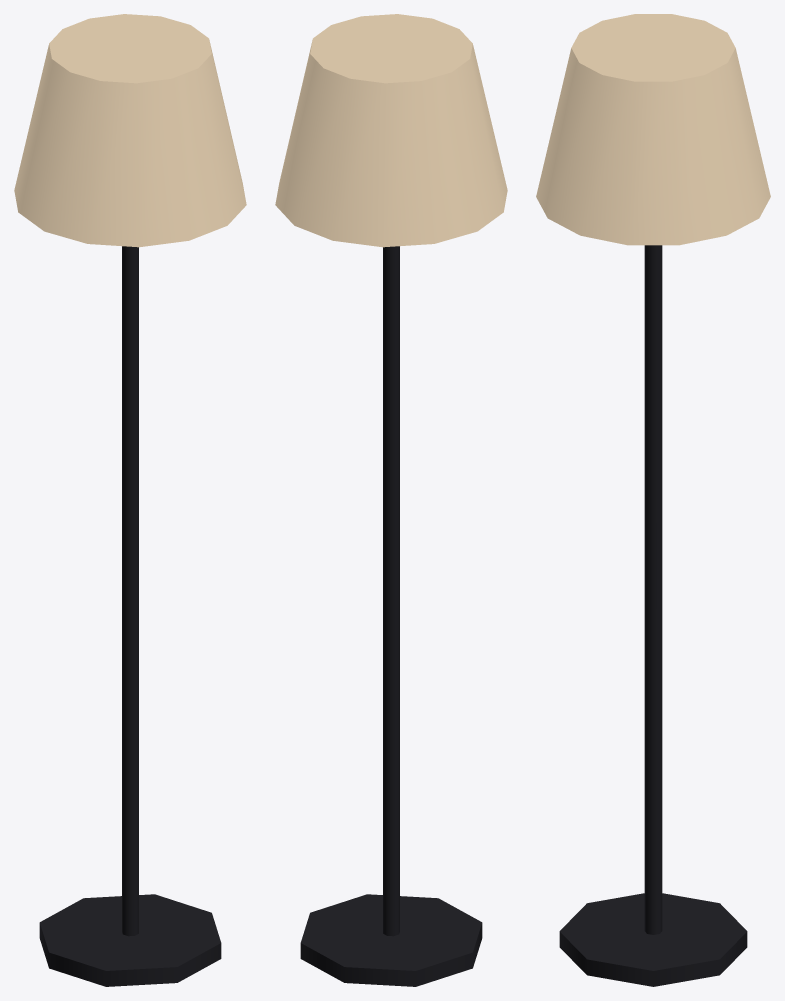
File: luminaria-piso.glb
3 views of the same model, side by side, from view 1: azimuth 30°, elevation 25°; view 2: azimuth 150°, elevation 25°; view 3: azimuth 270°, elevation 25° (orthographic).
Visible parts, largest first — view 1: luminaria-piso_malha; view 2: luminaria-piso_malha; view 3: luminaria-piso_malha.
Part boxes in pixels (<box>): luminaria-piso_malha: <box>14,14,246,986</box>; luminaria-piso_malha: <box>275,14,507,986</box>; luminaria-piso_malha: <box>536,14,770,986</box>.
Bounding box in the file's own units: 0.39 × 1.69 × 0.4.
